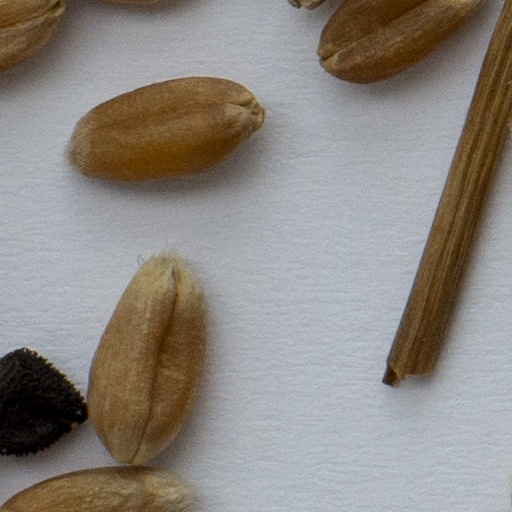Peel-poly: (384, 0, 511, 387)
